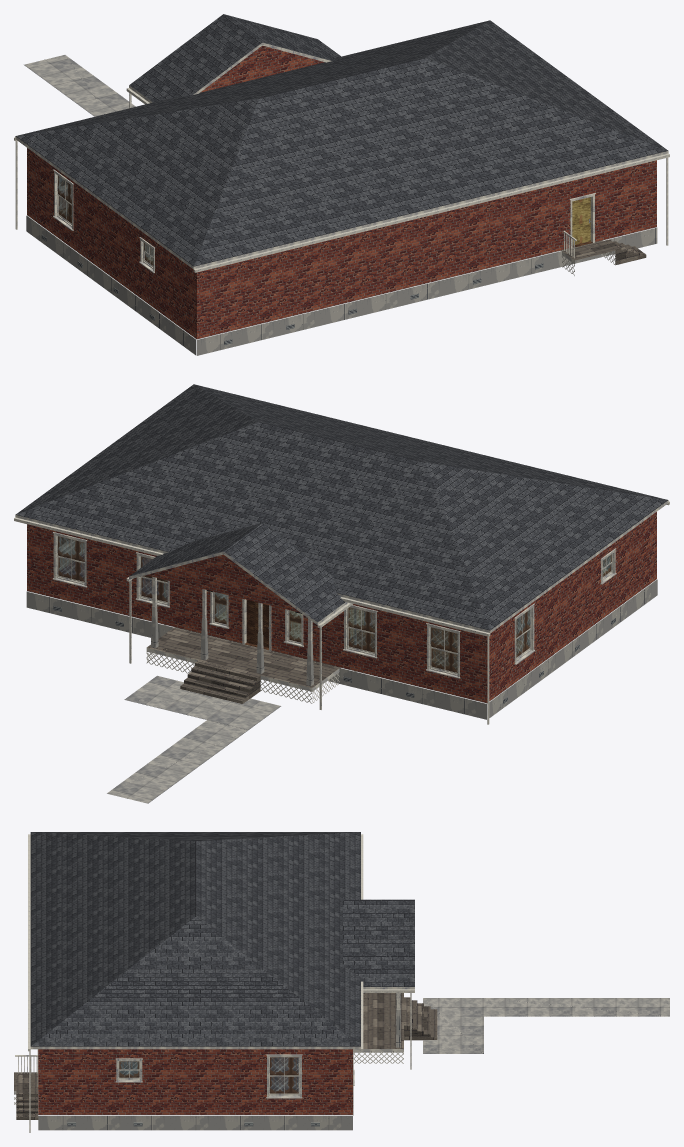
File: COM_MunicipalArchive.glb
3 renders of one model, top to bottom at view 1: azimuth 30°, elevation 25°; view 2: azimuth 150°, elevation 25°; view 3: azimuth 270°, elevation 25°, orthographic. The views are drawn at different scales.
Visible parts, largest first — view 1: COM_MunicipalArchive_Exterior, INT_Door_BackExit; view 2: COM_MunicipalArchive_Exterior, COM_MunicipalArchive_Interior, INT_Door_Entrance; view 3: COM_MunicipalArchive_Exterior, COM_MunicipalArchive_Interior.
Part boxes in pixels (x1,y1,x2,y2): COM_MunicipalArchive_Exterior: (14, 14, 669, 355); INT_Door_BackExit: (572, 197, 590, 245); COM_MunicipalArchive_Exterior: (14, 384, 669, 803); COM_MunicipalArchive_Interior: (59, 537, 609, 670); INT_Door_Entrance: (246, 600, 268, 647); COM_MunicipalArchive_Exterior: (14, 832, 669, 1132); COM_MunicipalArchive_Interior: (120, 1057, 298, 1091).
Size of what is drawn, in the model's own units: 22.9 by 7.34 by 29.6.
Materials: 23 (23 with a texture image).
